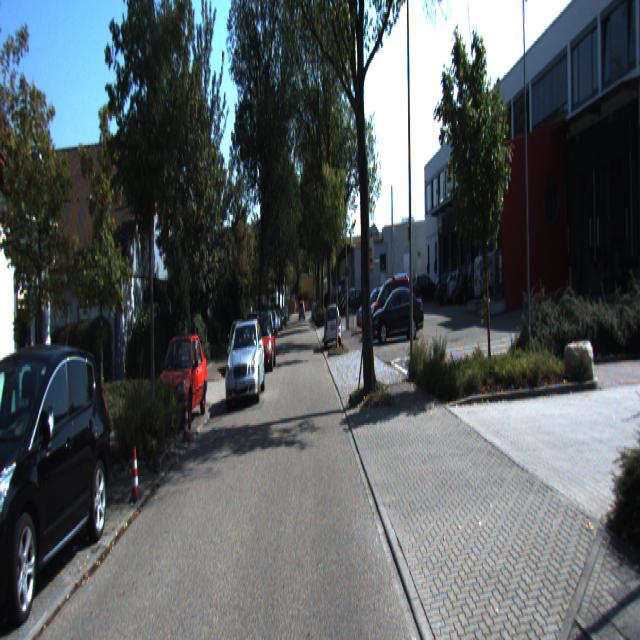Car: (0, 336, 117, 638), (151, 328, 208, 433), (223, 318, 267, 408), (370, 284, 426, 341), (368, 271, 415, 338), (324, 303, 342, 353)
DontCare: (426, 258, 469, 306), (266, 292, 290, 375), (338, 266, 362, 332), (311, 290, 323, 329), (298, 288, 307, 325)
Van: (473, 250, 524, 311)
